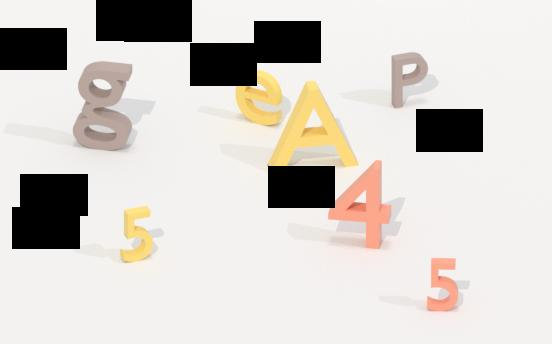4: (325, 158, 394, 251)
5: (115, 204, 159, 265), (422, 256, 464, 314)
A-hoa: (266, 79, 360, 177)
e: (234, 68, 284, 127)
g: (72, 61, 139, 156)
p: (388, 50, 432, 112)
